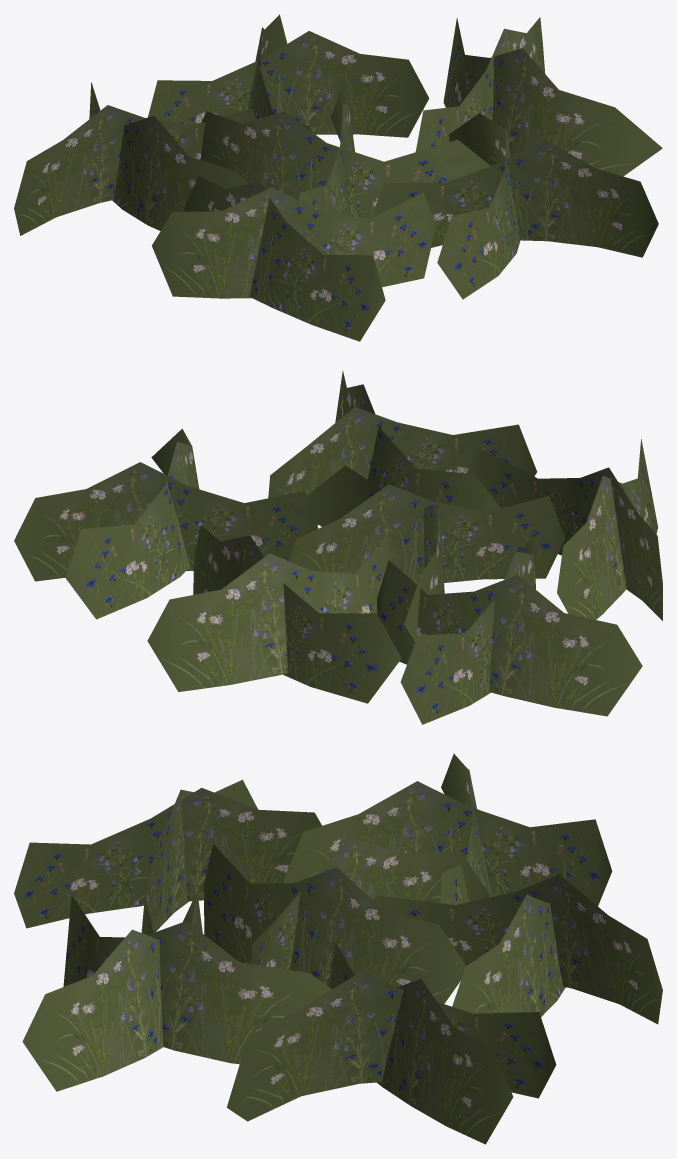
Rendered from SM_Grass_Flowers02.fbx.
3 views of the same model, one above another, from view 1: azimuth 30°, elevation 25°; view 2: azimuth 150°, elevation 25°; view 3: azimuth 270°, elevation 25° (orthographic). The views are drawn at different scales.
Visible parts, largest first — view 1: Grass_Flowers02_LOD0; view 2: Grass_Flowers02_LOD0; view 3: Grass_Flowers02_LOD0.
Part boxes in pixels (box(x1,y1,x2,y2)): Grass_Flowers02_LOD0: box(14, 14, 662, 341); Grass_Flowers02_LOD0: box(14, 370, 662, 724); Grass_Flowers02_LOD0: box(14, 753, 662, 1144).
Size of what is drawn, in the model's own units: 454 by 521 by 103.
